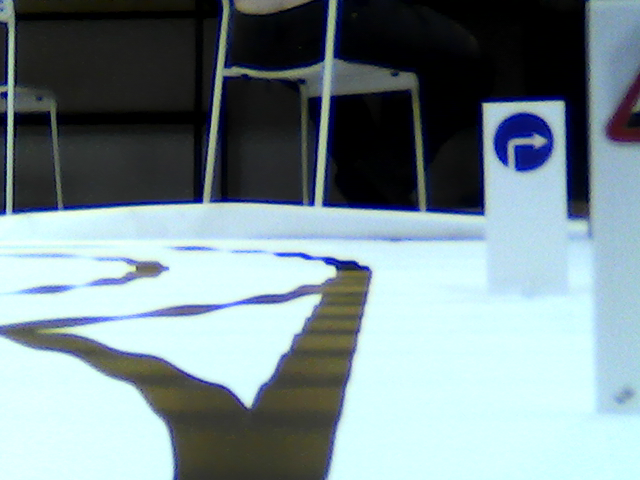Right: (491, 112, 553, 170)
